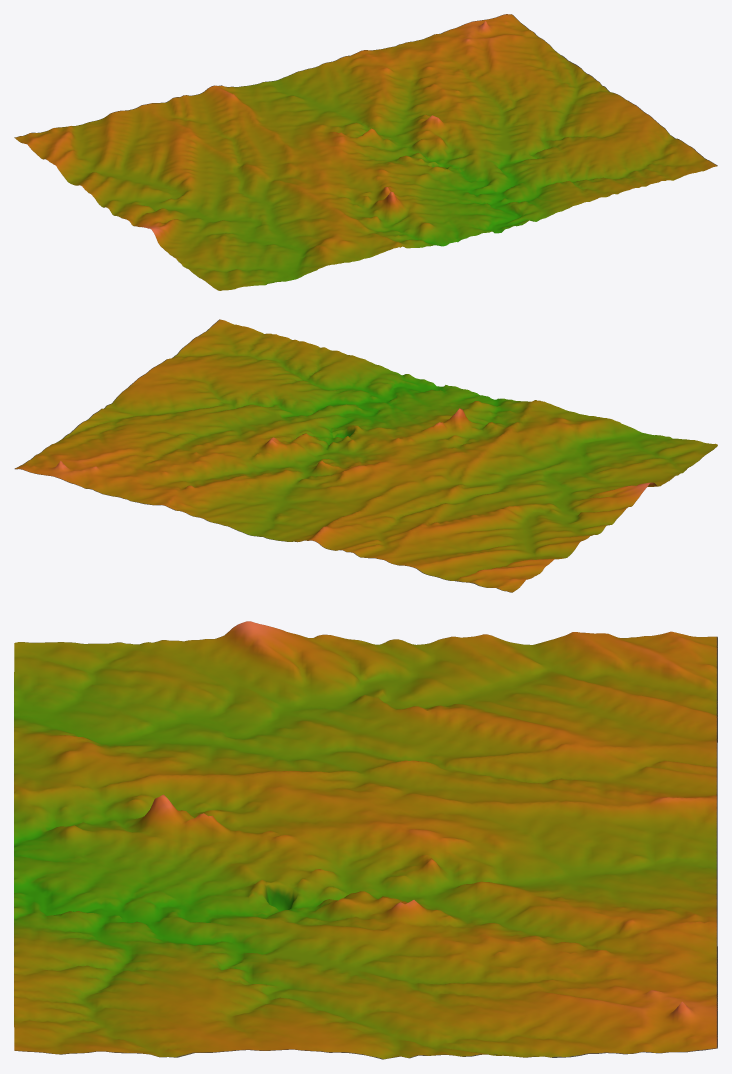
File: Gettysburg_heightmap.glb
The picture shows the model from 3 angles, top to bottom: view 1: azimuth 30°, elevation 25°; view 2: azimuth 150°, elevation 25°; view 3: azimuth 270°, elevation 25°; orthographic projection. The views are drawn at different scales.
Parts seen in each view (by area): view 1: Terrain; view 2: Terrain; view 3: Terrain.
Boxes of the visible parts, x1=… form: Terrain: x1=14, y1=14, x2=717, y2=290; Terrain: x1=14, y1=319, x2=717, y2=592; Terrain: x1=14, y1=621, x2=717, y2=1059.
Size of the model in its own units: 0.7385 by 0.0471 by 0.5284.
Materials: 1 (1 with a texture image).
